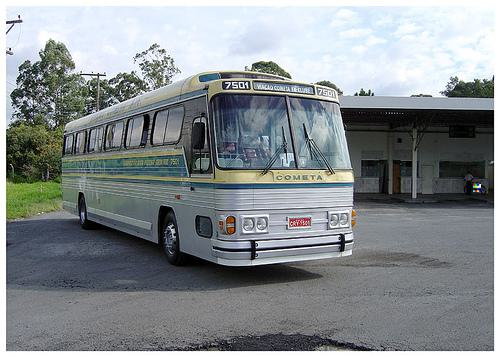bus: (61, 70, 357, 266)
car: (464, 180, 490, 196)
person: (464, 172, 477, 199)
